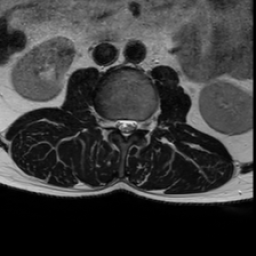CCS_normal: (121, 111, 128, 146)
LFS_normal: (136, 113, 145, 134)
LLS_normal: (128, 111, 136, 138)
RFS_normal: (105, 110, 113, 135)
RLS_normal: (113, 111, 121, 134)
